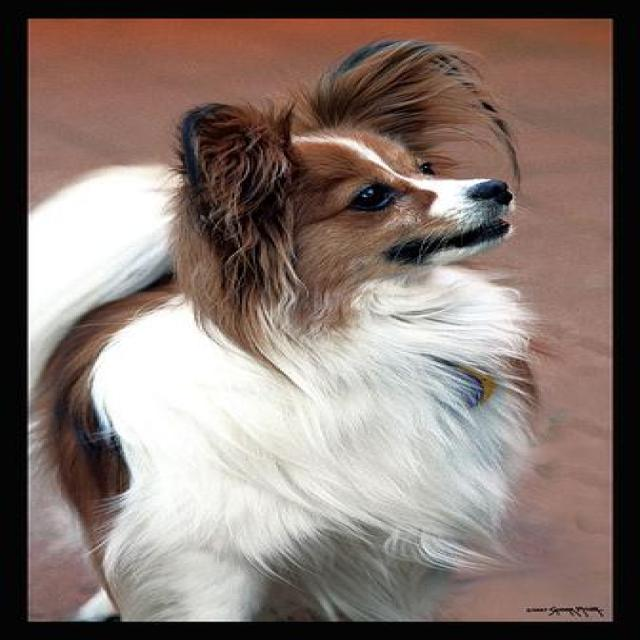papillon: (31, 33, 518, 636)
